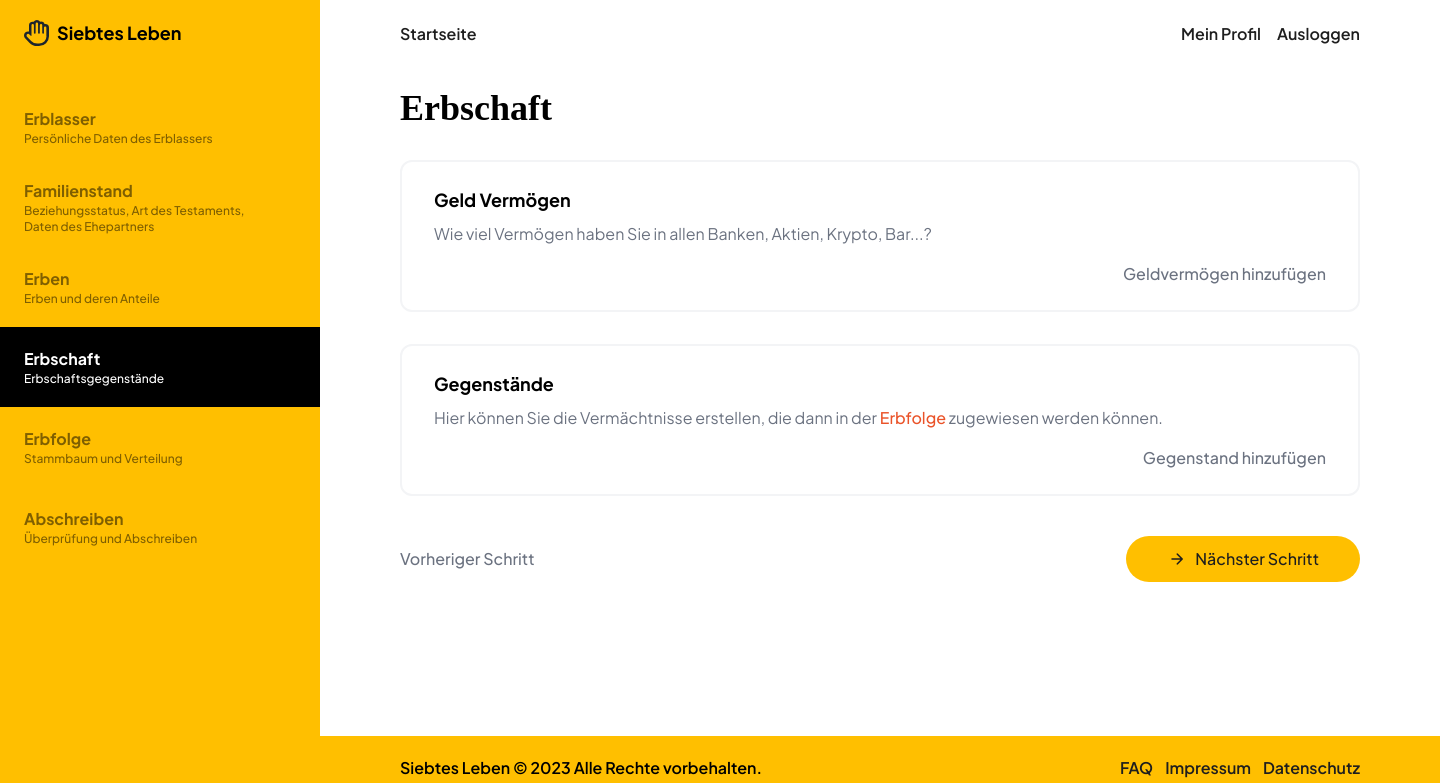
Last Will Inheritance Page › Items › should add an item
Click the button "Geldvermögen hinzufügen" at (1225, 274), box [1123,262,1326,286]
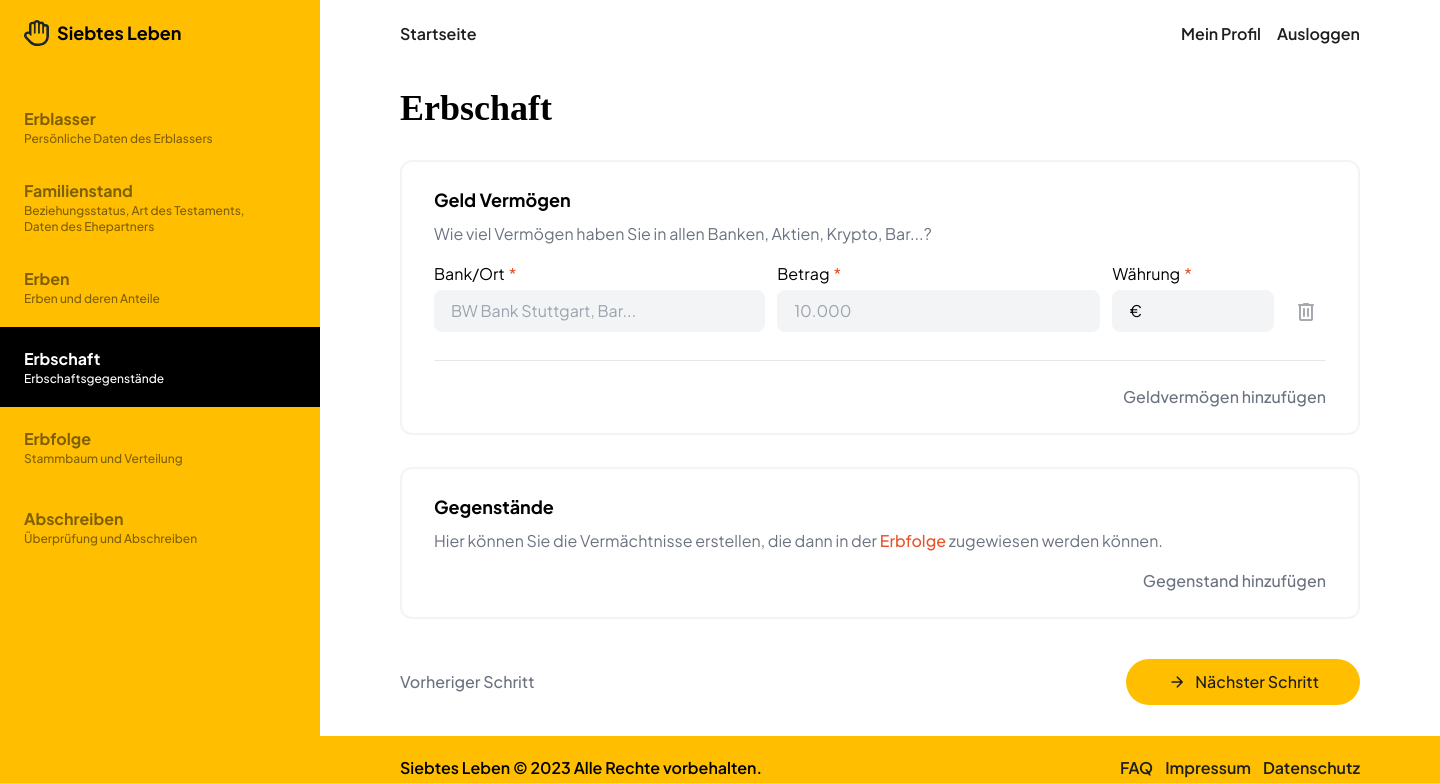
Click the button "Gegenstand hinzufügen" at (1235, 581), box [1143,569,1326,593]
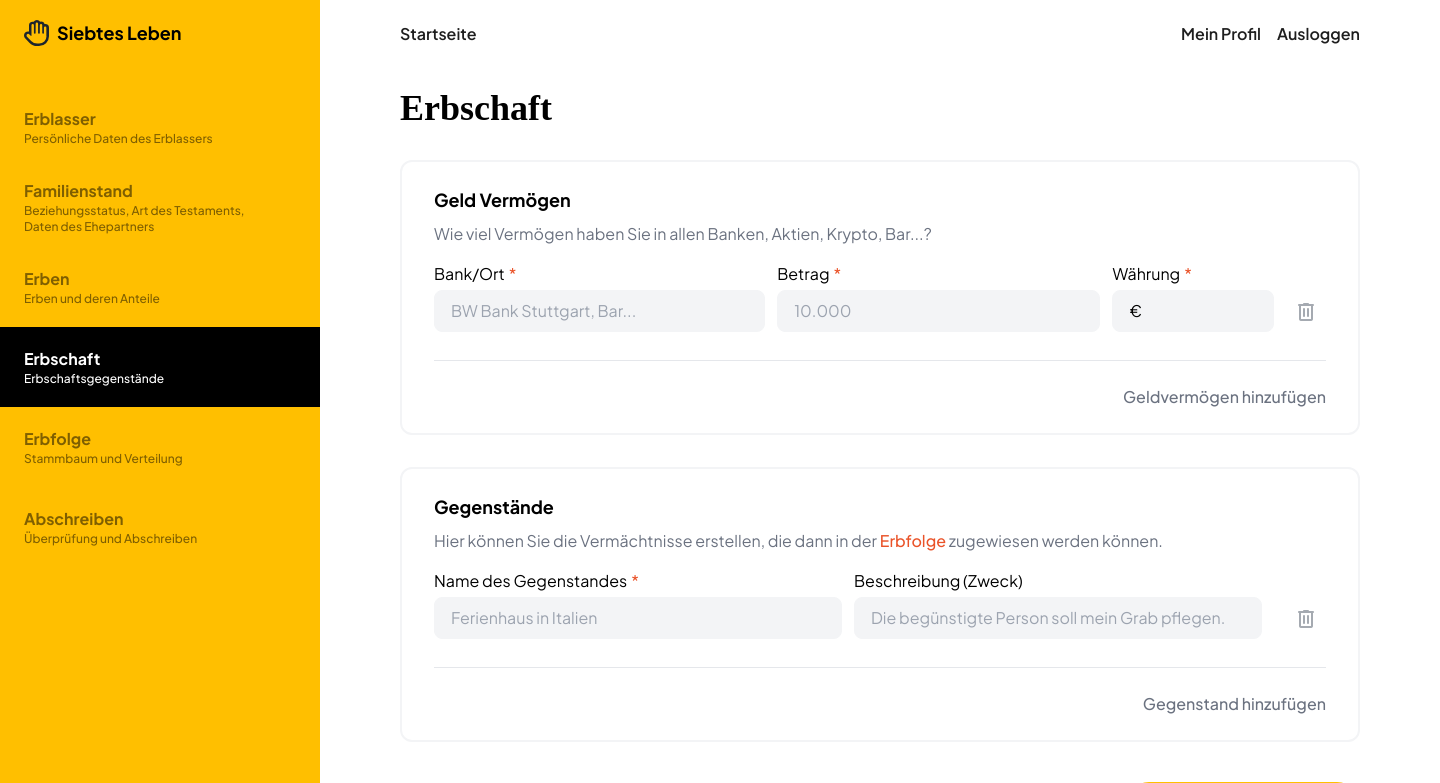
Click the button "Gegenstand hinzufügen" at (1235, 704), box [1143,692,1326,716]
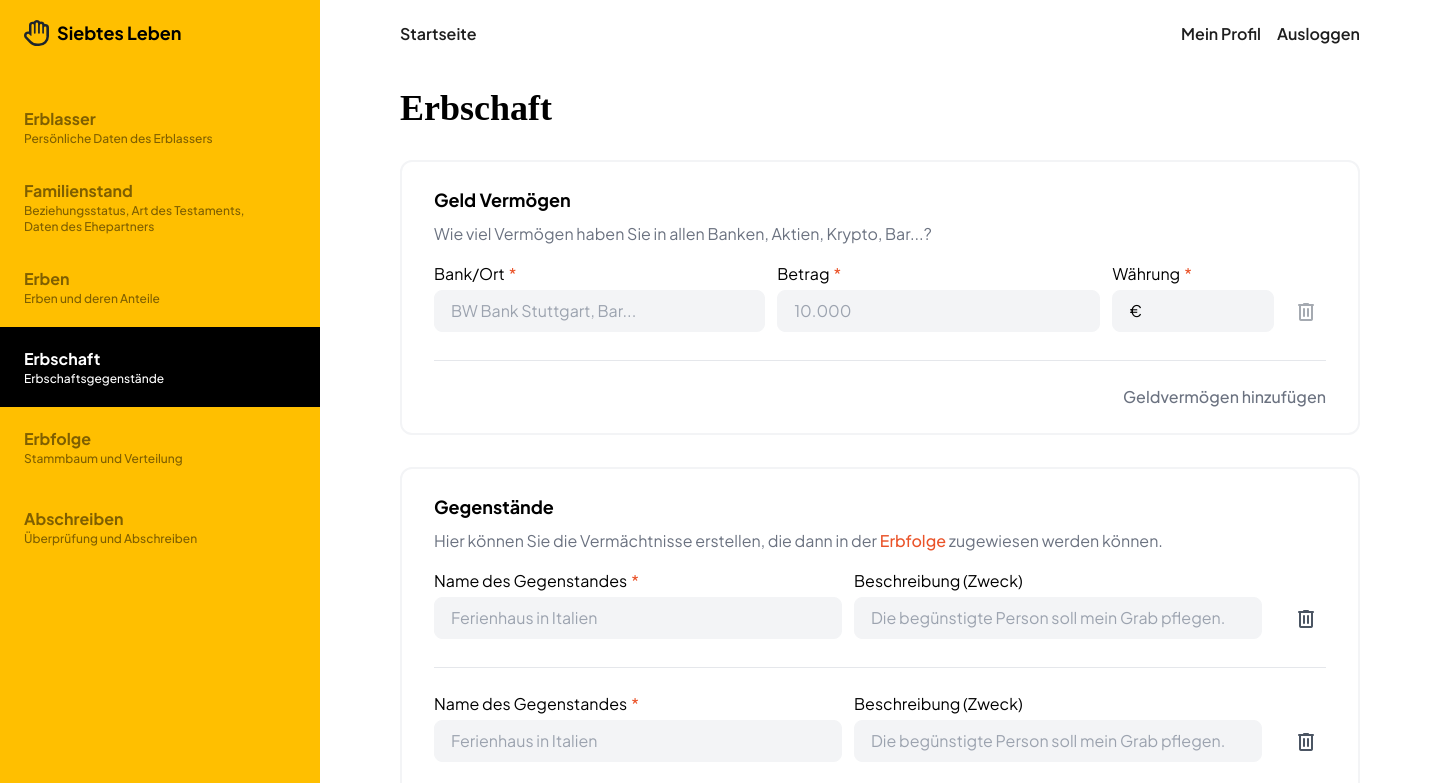
Now the 2nd field labelled "Name des Gegenstandes*" is shown, box [434,720,842,762]
